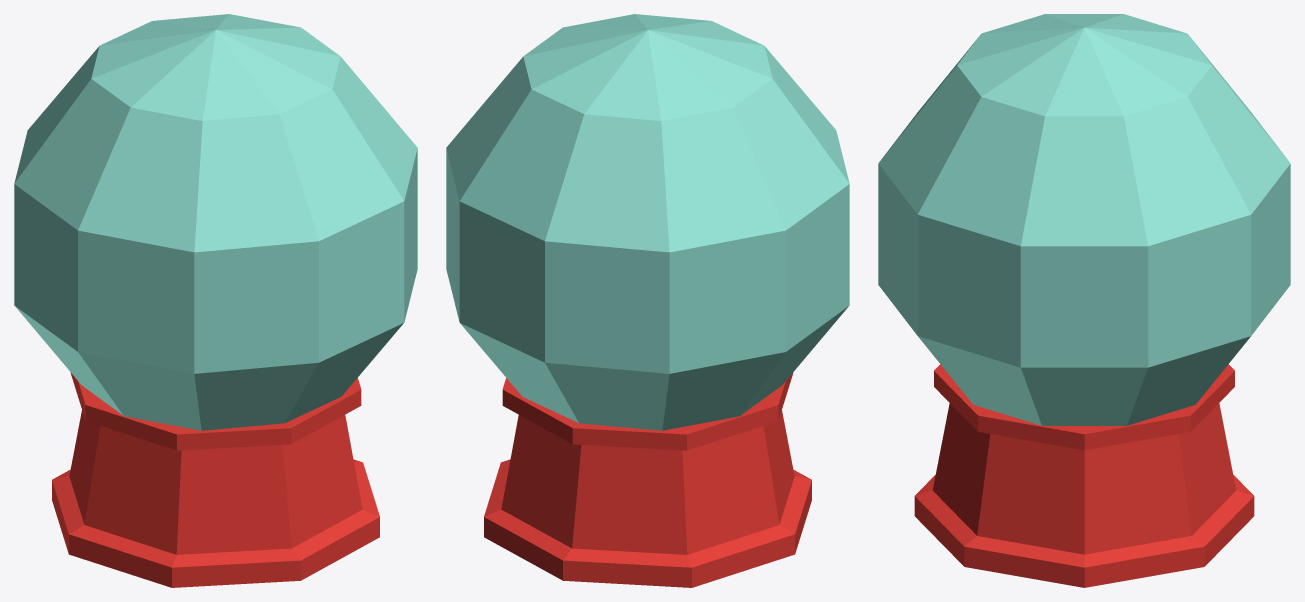
Rendered from SM_Snow_Globe.fbx.
The picture shows the model from 3 angles, left to right: view 1: azimuth 30°, elevation 25°; view 2: azimuth 150°, elevation 25°; view 3: azimuth 270°, elevation 25°; orthographic projection.
Visible parts, largest first — view 1: snow-globe; view 2: snow-globe; view 3: snow-globe.
Boxes of the visible parts, x1,y1,x2,y2 form: snow-globe: [14, 14, 417, 587]; snow-globe: [446, 14, 849, 587]; snow-globe: [878, 14, 1290, 587].
Size of the model in its own units: 0.1903 by 0.2616 by 0.2001.
